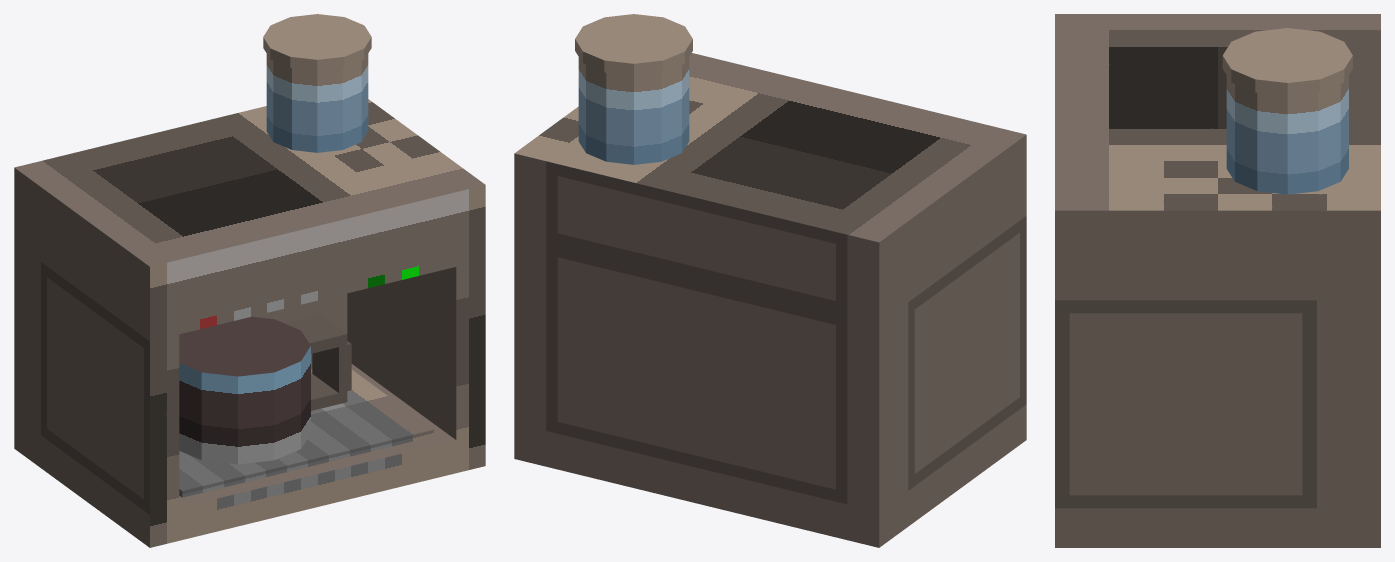
Rendered from coffee_machine_impressa.glb.
The picture shows the model from 3 angles, left to right: view 1: azimuth 30°, elevation 25°; view 2: azimuth 150°, elevation 25°; view 3: azimuth 270°, elevation 25°; orthographic projection. The views are drawn at different scales.
Visible parts, largest first — view 1: Coffee_Machine, Coffee_Pot, Drip_Tray, Grinder_Hopper, Hopper_Lid, Pot_Handle; view 2: Coffee_Machine, Grinder_Hopper, Hopper_Lid; view 3: Coffee_Machine, Grinder_Hopper, Hopper_Lid.
Boxes of the visible parts, box(x1,y1,x2,y2) form: Coffee_Machine: box(14, 99, 485, 547); Coffee_Pot: box(179, 316, 310, 464); Drip_Tray: box(179, 369, 433, 497); Grinder_Hopper: box(266, 54, 368, 152); Hopper_Lid: box(263, 14, 371, 70); Pot_Handle: box(285, 314, 351, 410); Coffee_Machine: box(514, 53, 1026, 547); Grinder_Hopper: box(578, 57, 689, 164); Hopper_Lid: box(575, 14, 692, 75); Coffee_Machine: box(1055, 14, 1380, 547); Grinder_Hopper: box(1226, 75, 1348, 194); Hopper_Lid: box(1222, 28, 1352, 96).
Bounding box in the file's own units: 0.8 × 0.855 × 0.56.
Materials: 1 (1 with a texture image).
